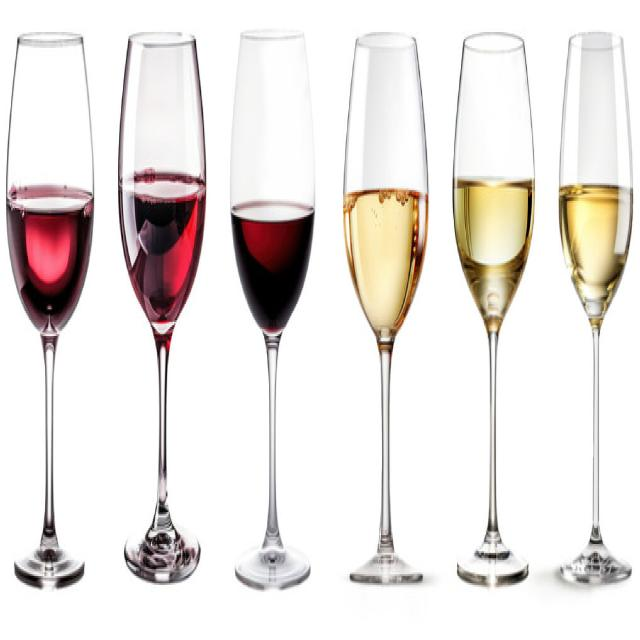Cup: (2, 15, 96, 598), (115, 17, 208, 590), (338, 12, 429, 590), (227, 21, 316, 600), (450, 29, 536, 592), (552, 22, 636, 596)
